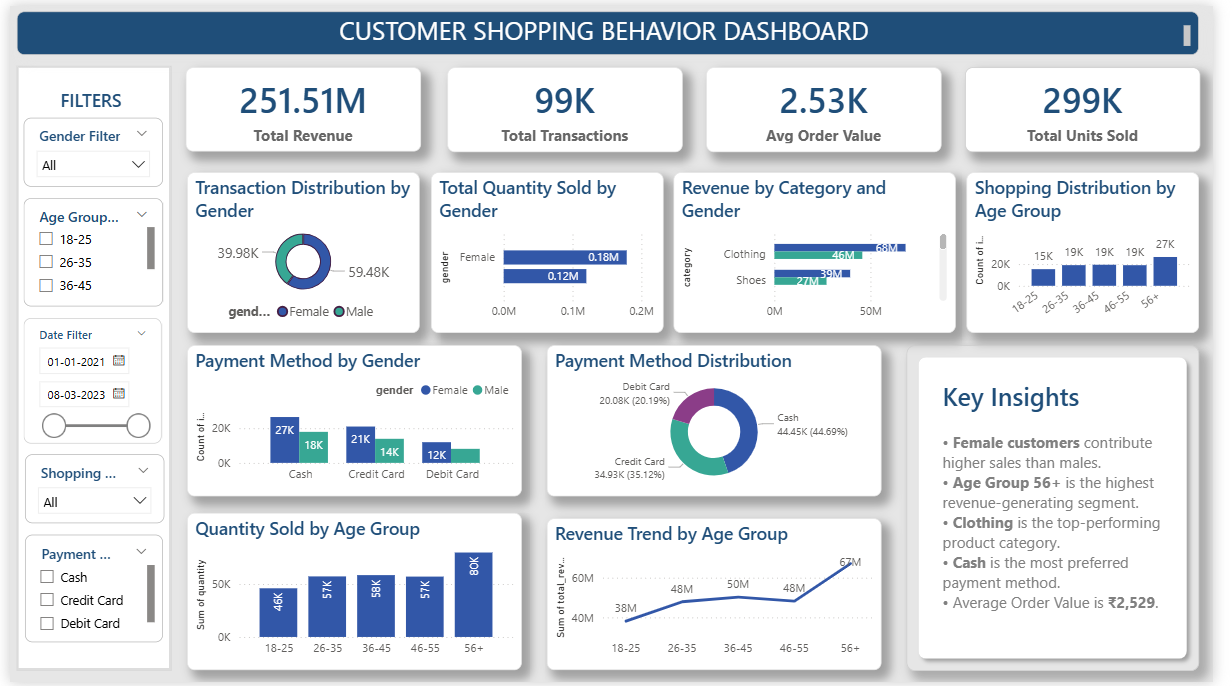

This screenshot's page, from the dashboard's own definition file:
{"tool":"powerbi","page":{"name":"Executive Dashboard","canvas":[1280,720],"ordinal":11},"visuals":[{"type":"shape","box":[6.8,63.9,164.5,643],"z":0},{"type":"textbox","box":[6.8,5.4,1257.5,46.2],"z":1000},{"type":"card","title":"Total Revenue","fields":{"Values":["Sheet1.Total Revenue"]},"box":[186.2,65.3,250.1,89.7],"z":2000},{"type":"card","title":"Avg Order Value","fields":{"Values":["Sheet1.Avg Order Value"]},"box":[740.3,65.3,250,90],"z":3000},{"type":"card","title":"Total Transactions","fields":{"Values":["Sheet1.Total Transactions"]},"box":[464.7,65.3,250,90],"z":4000},{"type":"card","title":"Total Units Sold","fields":{"Values":["Sheet1.Total Units Sold"]},"box":[1015.9,65.3,250,90],"z":5000},{"type":"slicer","fields":{"Values":["Sheet1.gender"]},"box":[15,118.3,148.2,73.4],"z":6000},{"type":"slicer","fields":{"Values":["Sheet1.age_group"]},"box":[15,203.9,148.2,115.6],"z":7000},{"type":"slicer","fields":{"Values":["Sheet1.payment_method"]},"box":[16.3,562.8,146.8,114.2],"z":8000},{"type":"slicer","fields":{"Values":["Sheet1.invoice_date"]},"box":[15,331.7,146.8,133.2],"z":9000},{"type":"slicer","fields":{"Values":["Sheet1.shopping_mall"]},"box":[16.3,477.2,148.2,73.4],"z":10000},{"type":"donutChart","title":"Transaction Distribution by Gender","fields":{"Category":["Sheet1.gender"],"Y":["CountNonNull(Sheet1.invoice_no)"]},"box":[189,176.7,247.4,171.3],"z":11000},{"type":"clusteredBarChart","title":"Total Quantity Sold by Gender","fields":{"Category":["Sheet1.gender"],"Y":["Sum(Sheet1.quantity)"]},"box":[447.7,176.7,247,171],"z":12000},{"type":"clusteredBarChart","title":"Revenue by Category and Gender","fields":{"Category":["Sheet1.category"],"Y":["Sum(Sheet1.total_revenue)"],"Series":["Sheet1.gender"]},"box":[706,176.7,300,171],"z":13000},{"type":"clusteredColumnChart","title":"Shopping Distribution by Age Group","fields":{"Y":["CountNonNull(Sheet1.invoice_no)"],"Category":["Sheet1.age_group"]},"box":[1017.3,176.7,247.1,171],"z":14000},{"type":"clusteredColumnChart","title":"Payment Method by Gender","fields":{"Category":["Sheet1.payment_method"],"Y":["CountNonNull(Sheet1.invoice_no)"],"Series":["Sheet1.gender"]},"box":[189,360.2,356.2,160.4],"z":15000},{"type":"clusteredColumnChart","title":"Quantity Sold by Age Group","fields":{"Category":["Sheet1.age_group"],"Y":["Sum(Sheet1.quantity)"]},"box":[189,539.7,356.2,167.2],"z":16000},{"type":"lineChart","title":" Revenue Trend by Age Group","fields":{"Category":["Sheet1.age_group"],"Y":["Sum(Sheet1.total_revenue)"]},"box":[571,545.1,356.2,161.8],"z":17000},{"type":"donutChart","title":"Payment Method Distribution","fields":{"Category":["Sheet1.payment_method"],"Y":["CountNonNull(Sheet1.invoice_no)"]},"box":[571,360.2,356.2,160.4],"z":18000},{"type":"shape","box":[954.3,360.2,311.3,346.7],"z":19000},{"type":"textbox","title":"Key Insights ","box":[986.9,397.5,249.8,284.3],"z":20000},{"type":"textbox","box":[17.7,82.9,137.3,35.3],"z":21000}]}

Visuals, with their boxes in screenshot pixels (x1, y1, x2, y2), scaled from the page's 1280x720 canvas onto the 1232x686 screenshot:
shape: <region>7, 61, 165, 674</region>
textbox: <region>7, 5, 1217, 49</region>
"Total Revenue" card: <region>179, 62, 420, 148</region>
"Avg Order Value" card: <region>713, 62, 953, 148</region>
"Total Transactions" card: <region>447, 62, 688, 148</region>
"Total Units Sold" card: <region>978, 62, 1218, 148</region>
slicer - Sheet1.gender: <region>14, 113, 157, 183</region>
slicer - Sheet1.age_group: <region>14, 194, 157, 304</region>
slicer - Sheet1.payment_method: <region>16, 536, 157, 645</region>
slicer - Sheet1.invoice_date: <region>14, 316, 156, 443</region>
slicer - Sheet1.shopping_mall: <region>16, 455, 158, 525</region>
"Transaction Distribution by Gender" donutChart: <region>182, 168, 420, 332</region>
"Total Quantity Sold by Gender" clusteredBarChart: <region>431, 168, 669, 331</region>
"Revenue by Category and Gender" clusteredBarChart: <region>680, 168, 968, 331</region>
"Shopping Distribution by Age Group" clusteredColumnChart: <region>979, 168, 1217, 331</region>
"Payment Method by Gender" clusteredColumnChart: <region>182, 343, 525, 496</region>
"Quantity Sold by Age Group" clusteredColumnChart: <region>182, 514, 525, 674</region>
" Revenue Trend by Age Group" lineChart: <region>550, 519, 892, 674</region>
"Payment Method Distribution" donutChart: <region>550, 343, 892, 496</region>
shape: <region>919, 343, 1218, 674</region>
"Key Insights " textbox: <region>950, 379, 1190, 650</region>
textbox: <region>17, 79, 149, 113</region>
